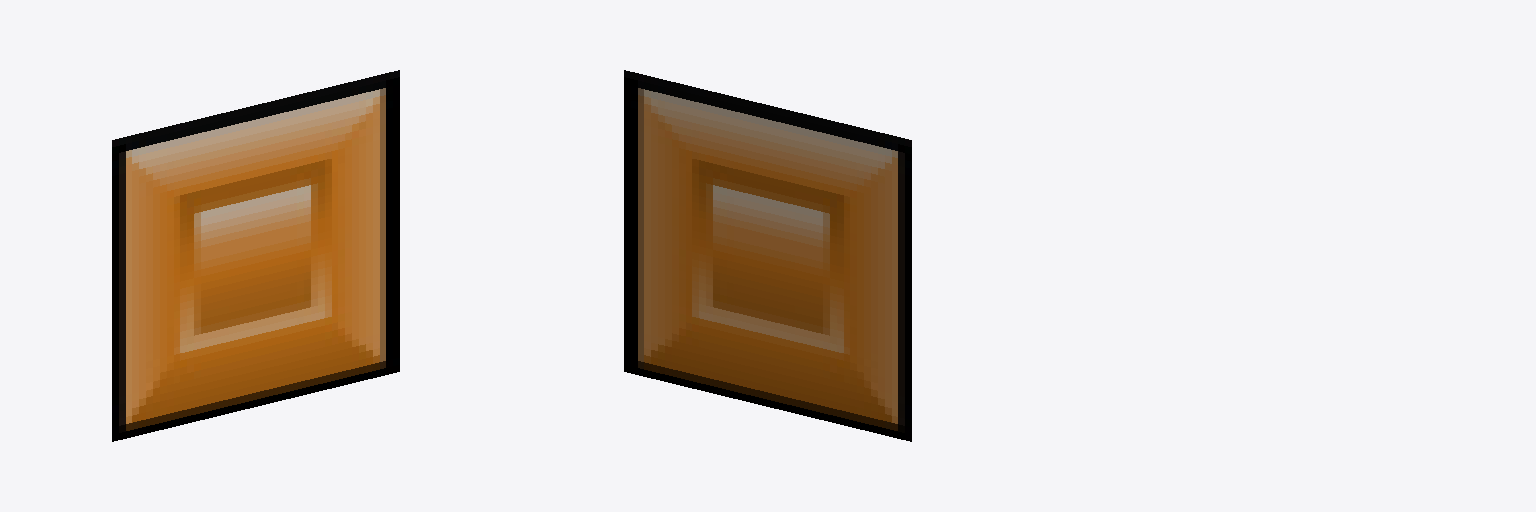
3 views of the same model, side by side, from view 1: azimuth 30°, elevation 25°; view 2: azimuth 150°, elevation 25°; view 3: azimuth 270°, elevation 25° (orthographic).
Visible parts, largest first — view 1: Orange; view 2: Orange; view 3: none.
Part boxes in pixels (bbox=[...]): Orange: bbox=[112, 70, 399, 441]; Orange: bbox=[624, 70, 911, 441].
Bounding box in the file's own units: 1 × 1 × 0.
1 materials, 1 textured.